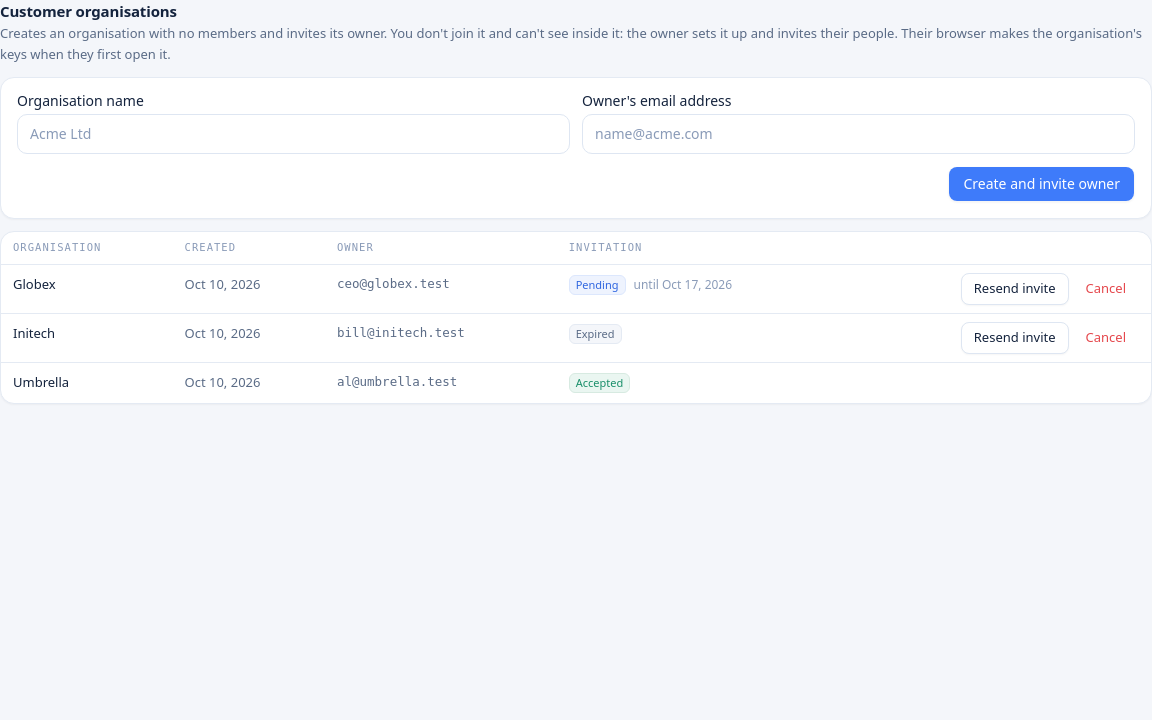
Scenario: Server → Customer organisations › lists status per organisation; resends and cancels (with a confirmation) only what isn't accepted
This screenshot has width=1152, height=720.
Expected: the text "Expired" is shown, [569,324,622,344]
Expected: the text "Accepted" is shown, [569,372,630,393]
Click the button with aria-label "Resend invite for Initech" at (1015, 338), box [961,322,1069,354]
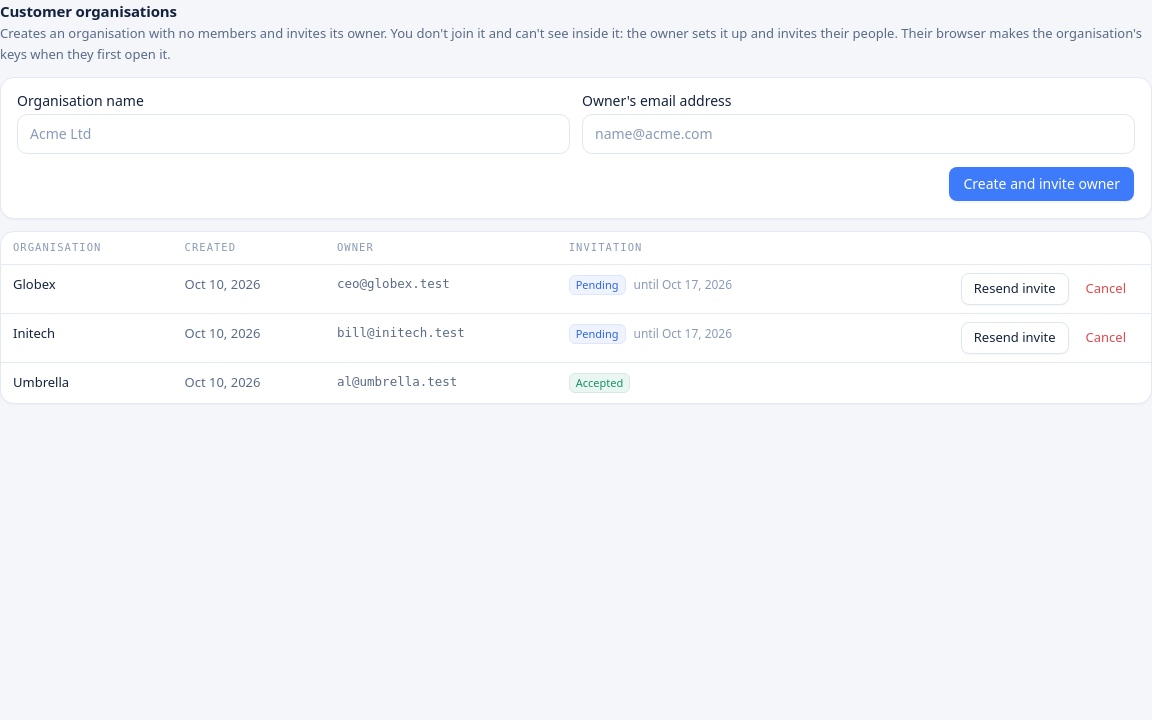
Expected: the text "Pending" next to "bill@initech.test" is shown, [576,326,618,340]
Click the button with aria-label "Resend invite for Globex" at (1015, 288), box [961,272,1069,304]
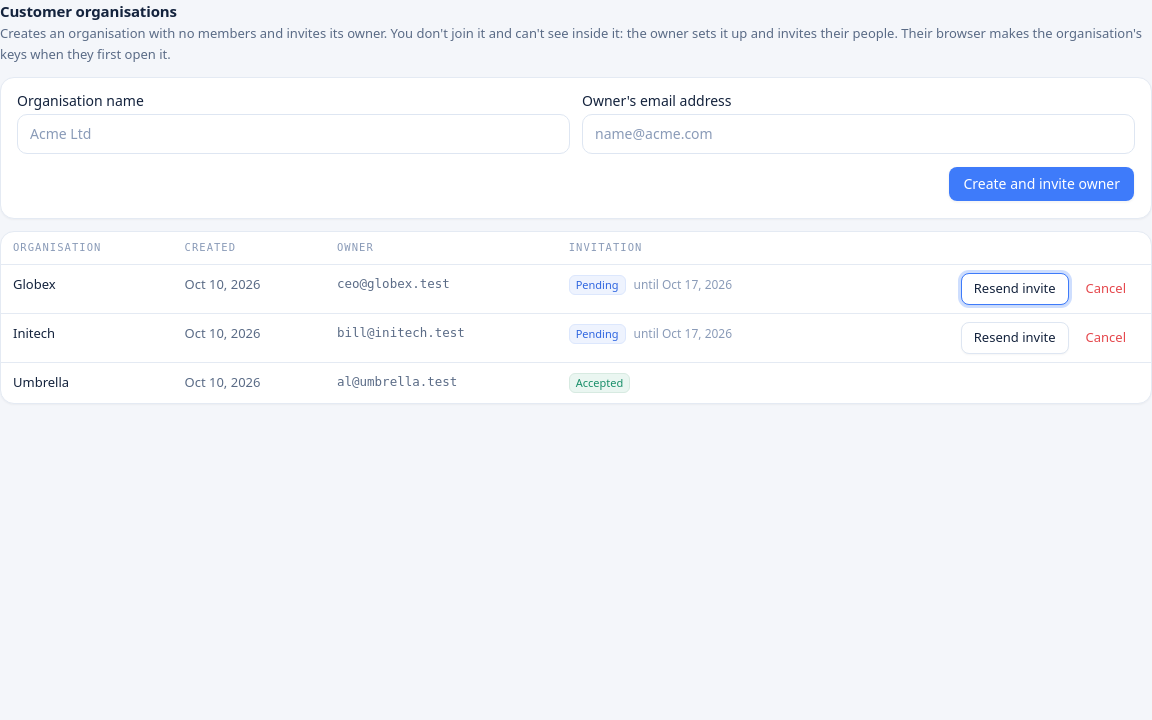
Click the button with aria-label "Cancel Globex" at (1106, 288), box [1072,272,1139,304]
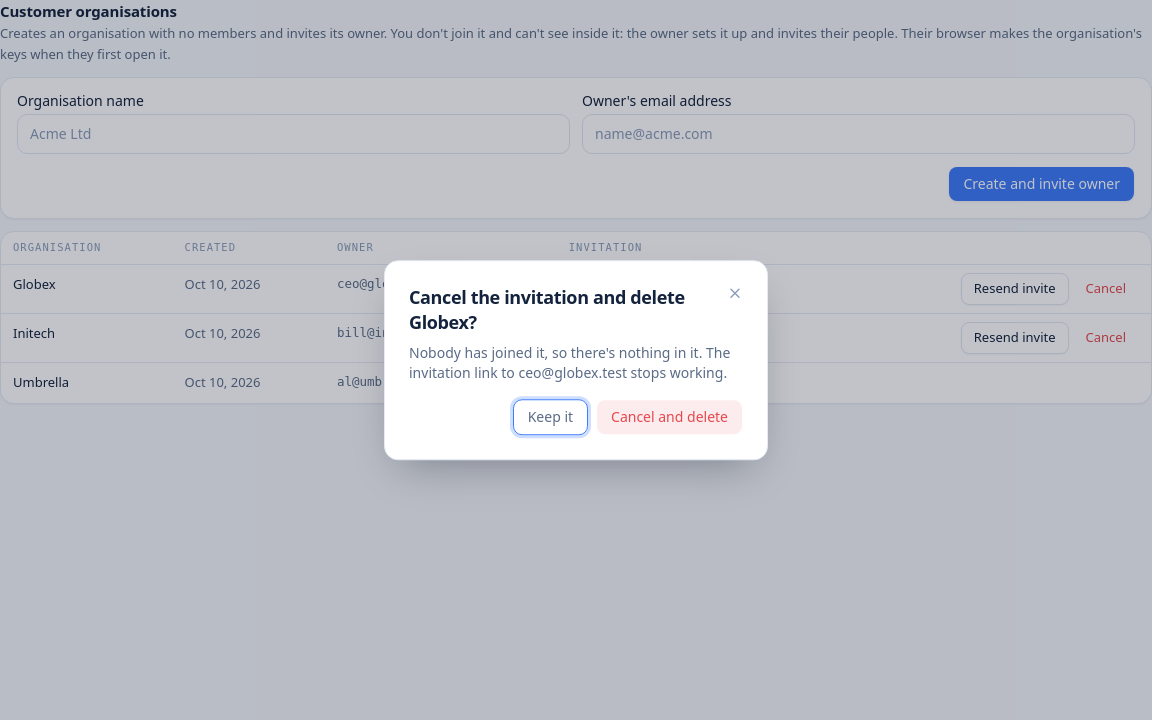
Expected: the dialog "Cancel the invitation and delete Globex?" shows "The invitation link to ceo@globex.test stops working.", [384,260,768,460]
Click the button "Cancel and delete" at (670, 417), box [596,399,743,435]
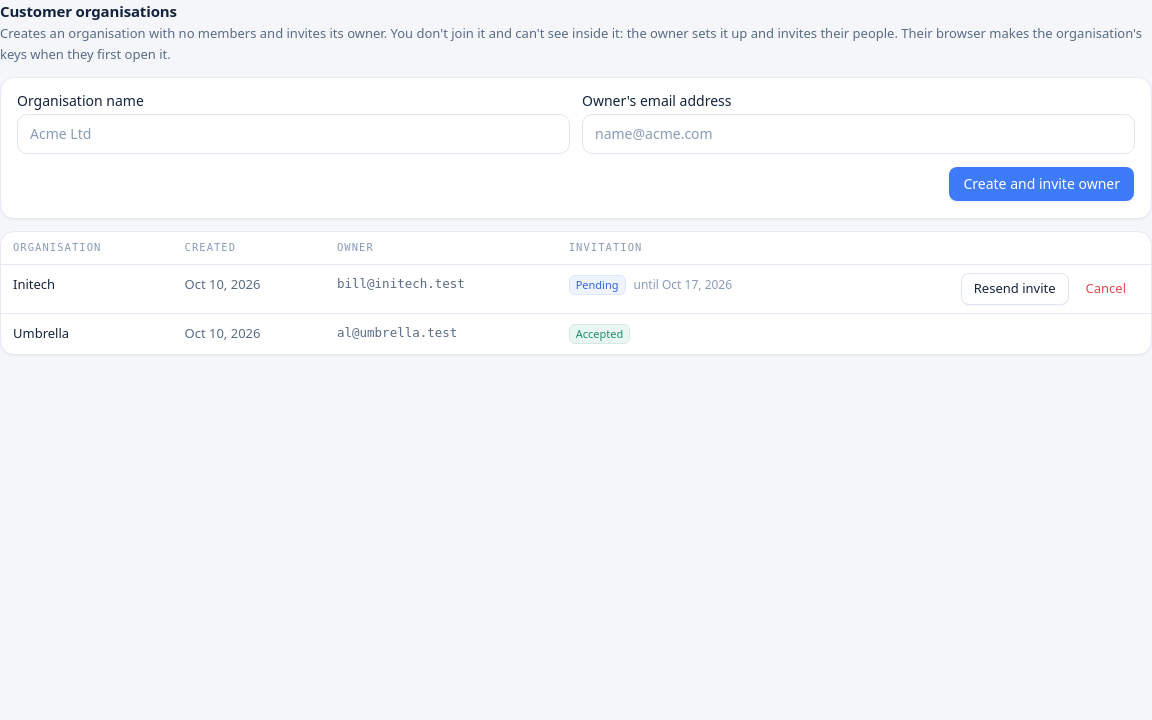
Expected: the cell "Globex" is gone
